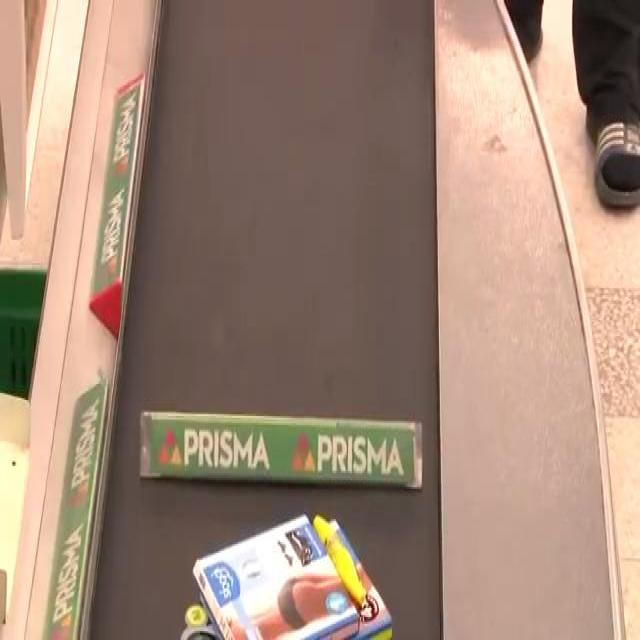utility-box: (190, 537, 378, 640)
